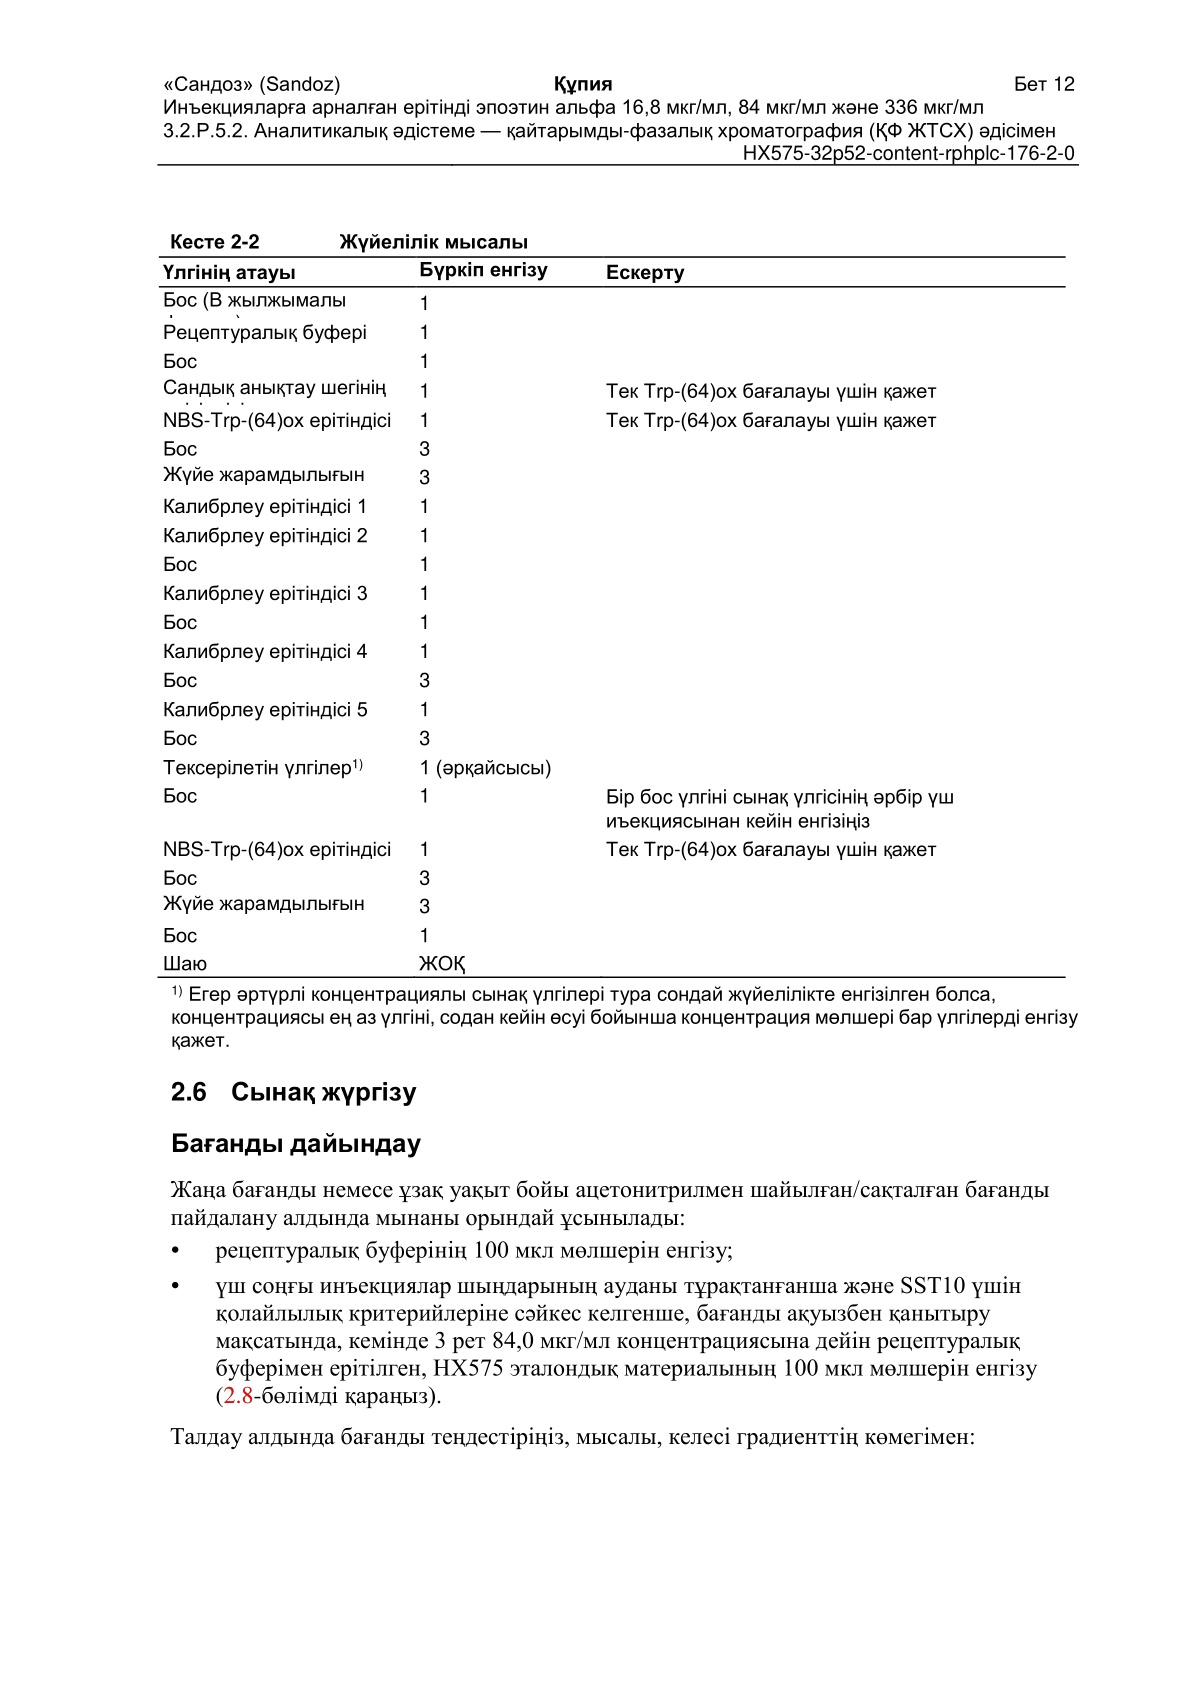partial_lined: (157, 254, 1067, 979)
